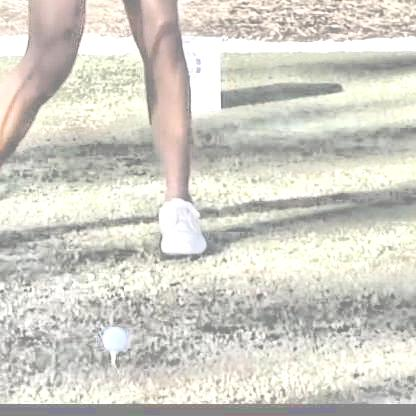golfball: (98, 323, 123, 348)
